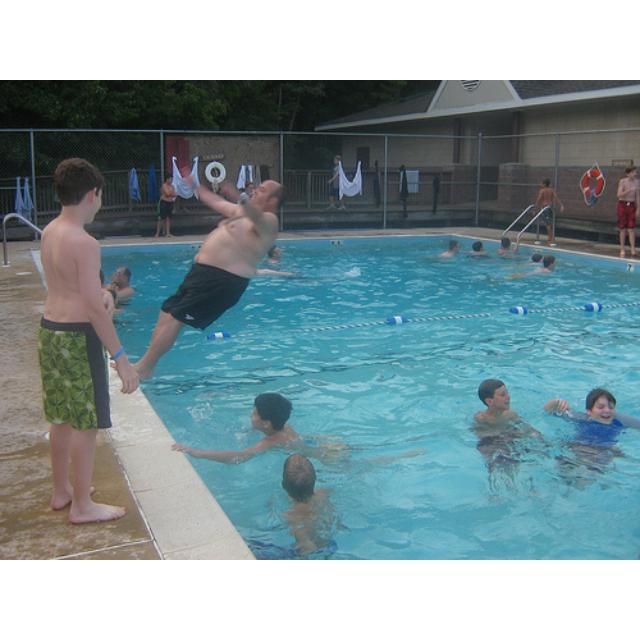human: (182, 389, 361, 474), (547, 386, 640, 483), (270, 449, 344, 559), (473, 376, 531, 480), (107, 261, 133, 299), (258, 239, 274, 272), (499, 235, 519, 258), (468, 239, 487, 258), (447, 237, 466, 256), (542, 254, 556, 274), (532, 251, 546, 266)
